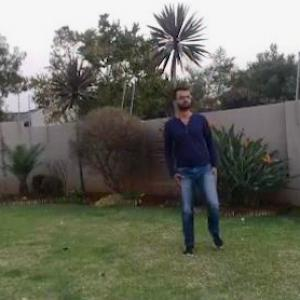follow: (163, 73, 227, 266)
